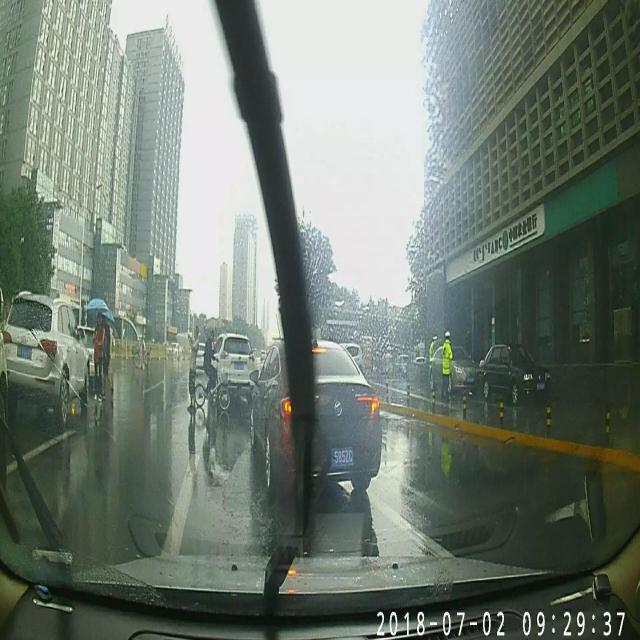car: (249, 336, 382, 494), (5, 290, 89, 422), (478, 342, 550, 399), (210, 328, 255, 404), (428, 344, 478, 394)
